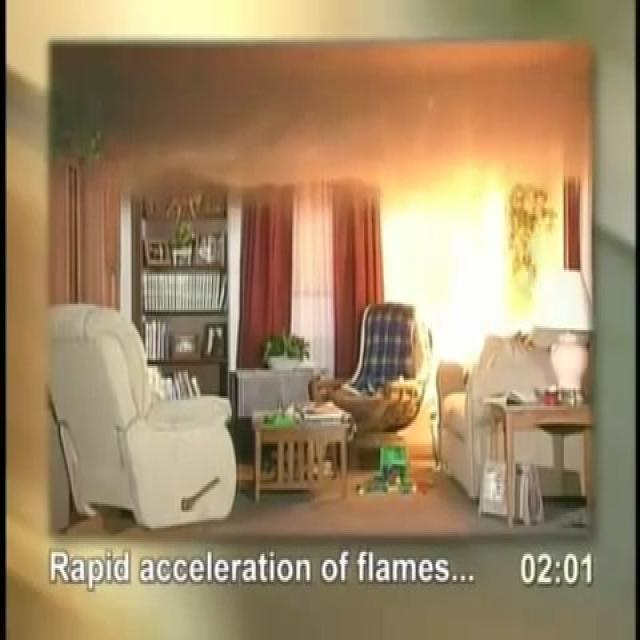Fire: (433, 136, 518, 298)
